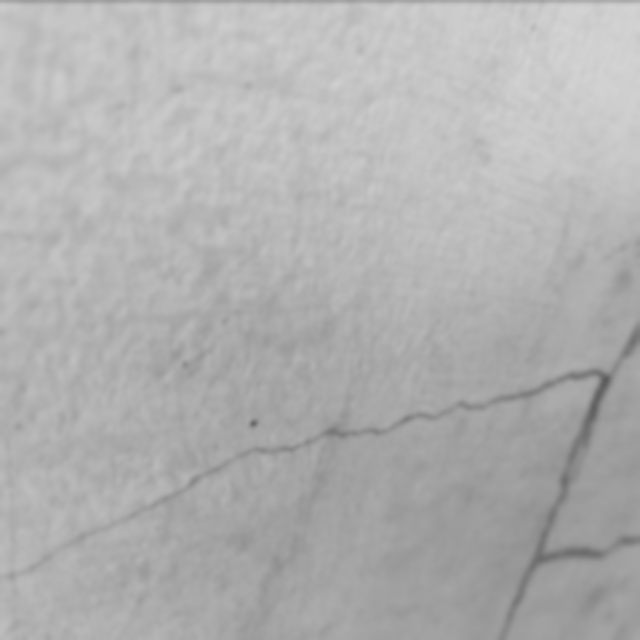SurfaceCrack: (0, 355, 639, 630)
